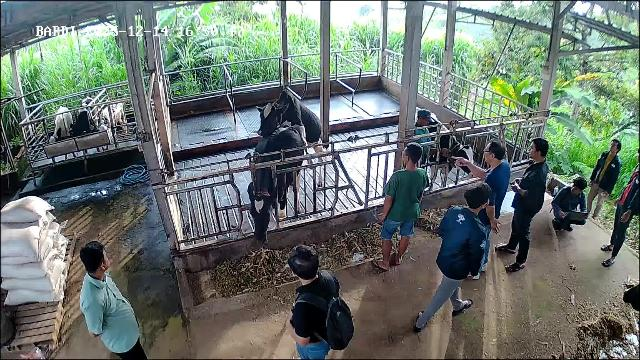mounting: (255, 89, 325, 184)
